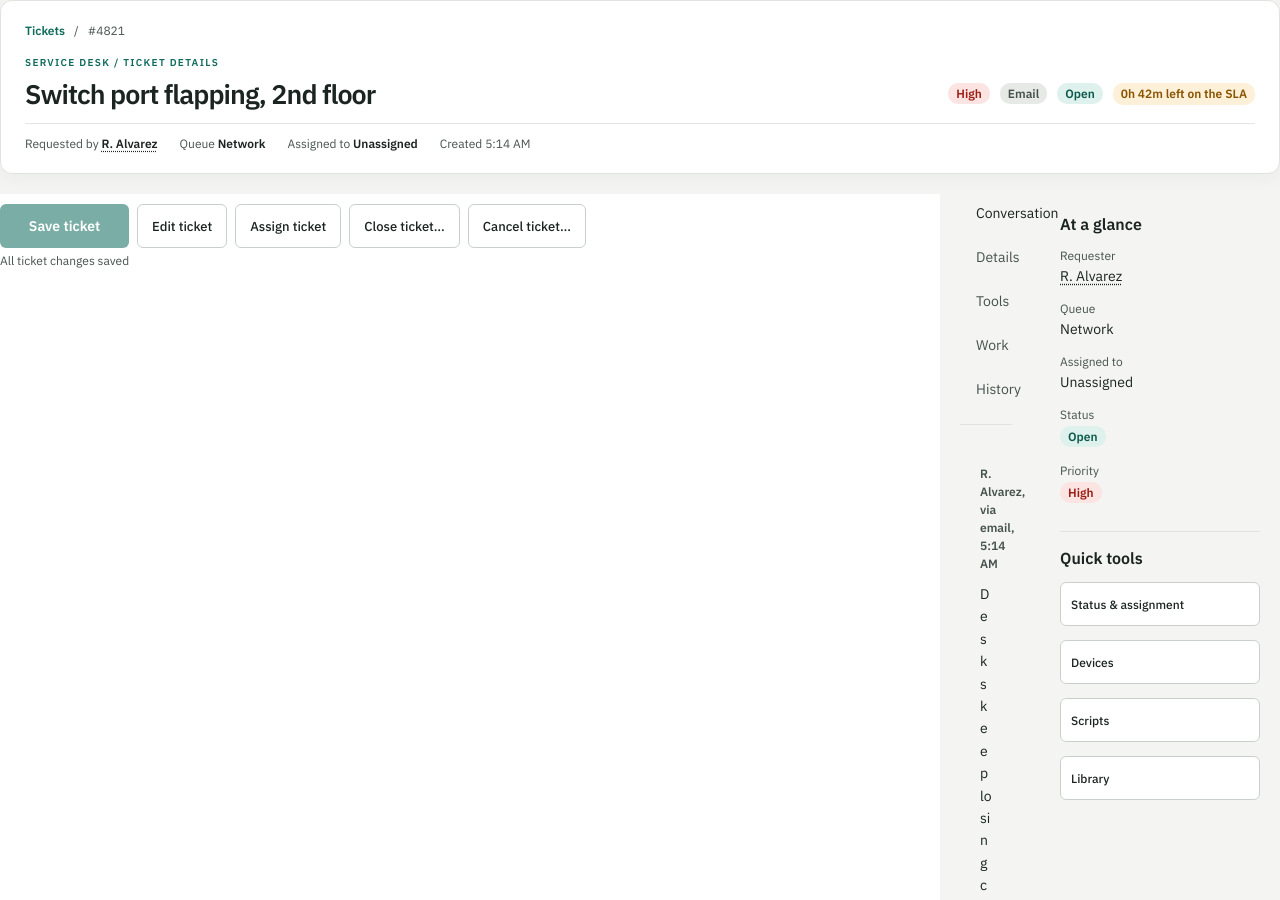
Scenario: core actions are visible on the conversation tab and assignment opens without changing tabs
Expected: the button "Edit ticket" is shown, [137,204,227,248]
Click the button "Assign ticket": [288, 226] box [235,204,341,248]
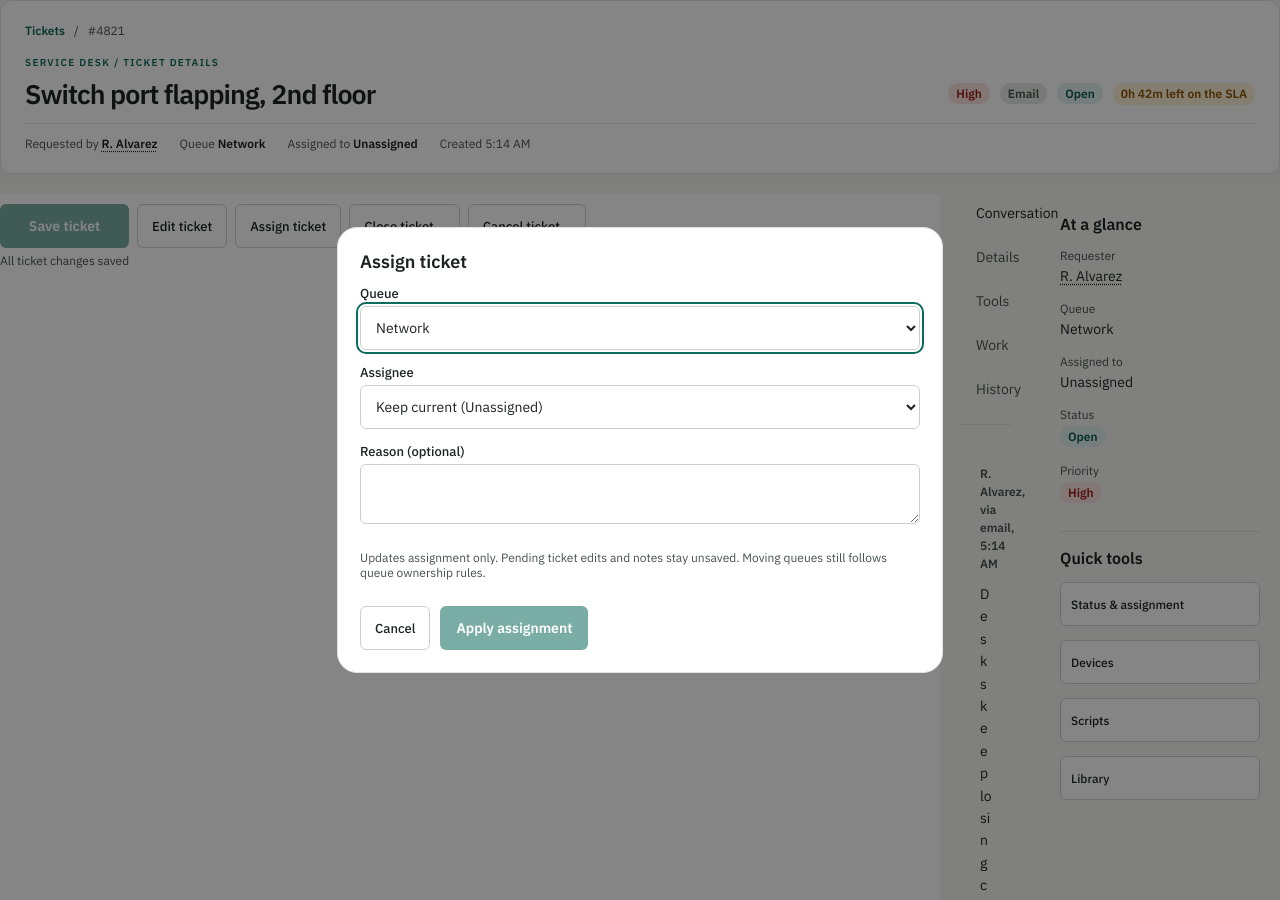
Select "Example Technician" in the dropdown labelled "Assignee": [640, 407] box [360,385,920,429]
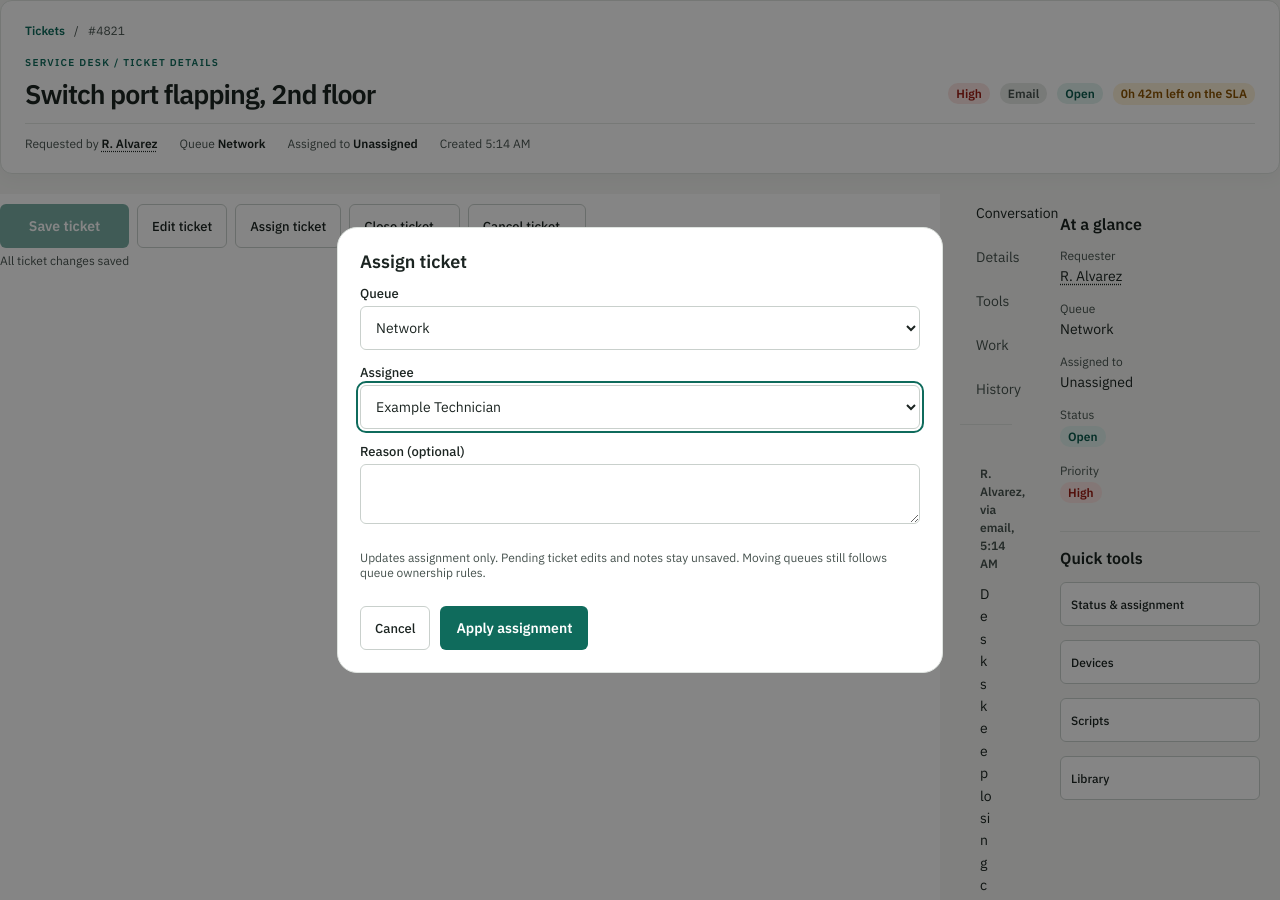
Click the button "Apply assignment": [514, 628] box [440,606,588,650]
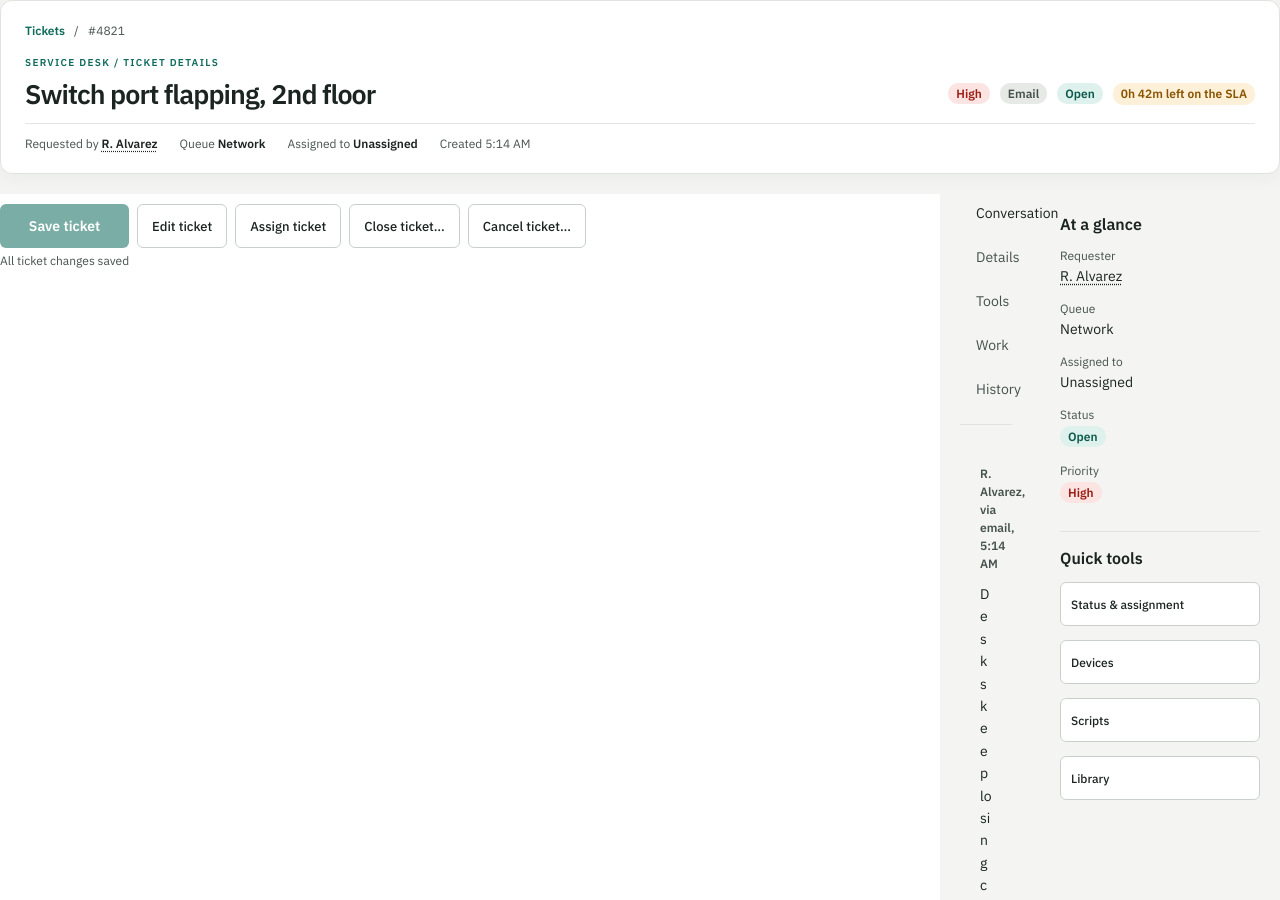
Now the dialog is gone
